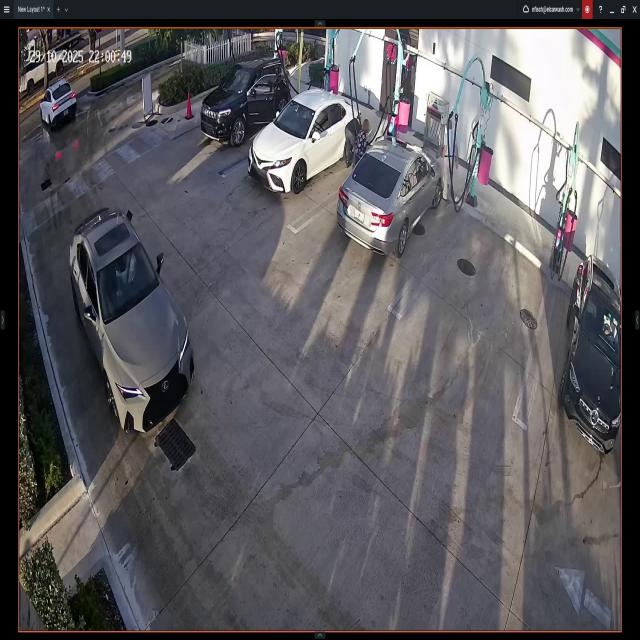Car: (71, 208, 196, 436), (338, 142, 443, 255), (250, 90, 363, 192), (568, 255, 620, 448), (202, 59, 290, 148), (39, 77, 78, 134)
